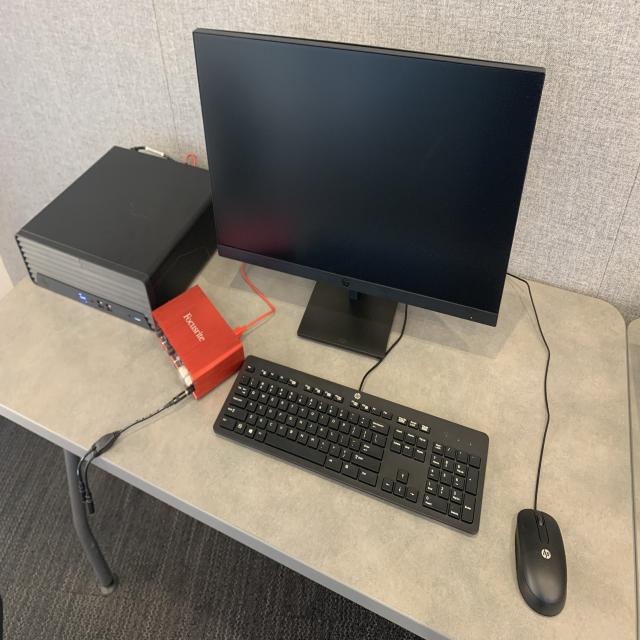Mouse: (507, 501, 576, 624)
